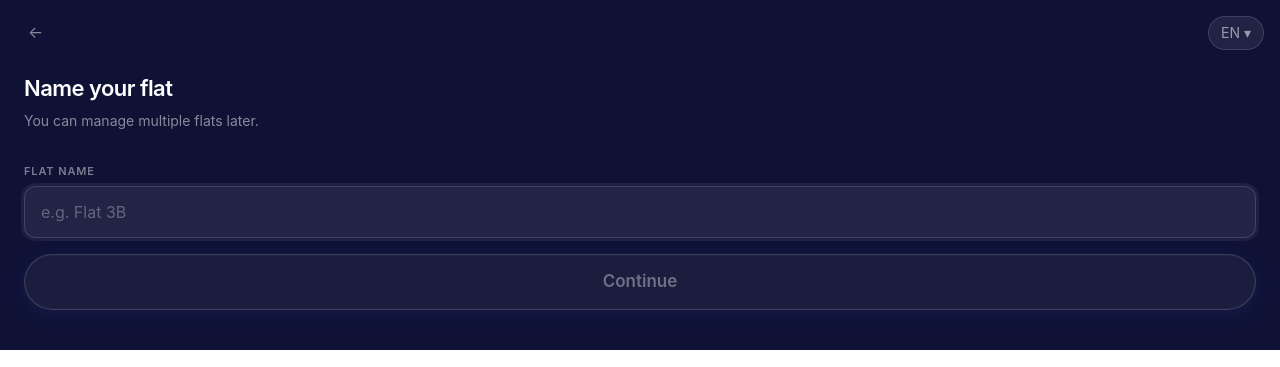
OnboardingFlatName › Continue button is enabled when a non-empty name is typed
Type "My Flat" into the field. click: (640, 212)
box: [24,186,1256,238]
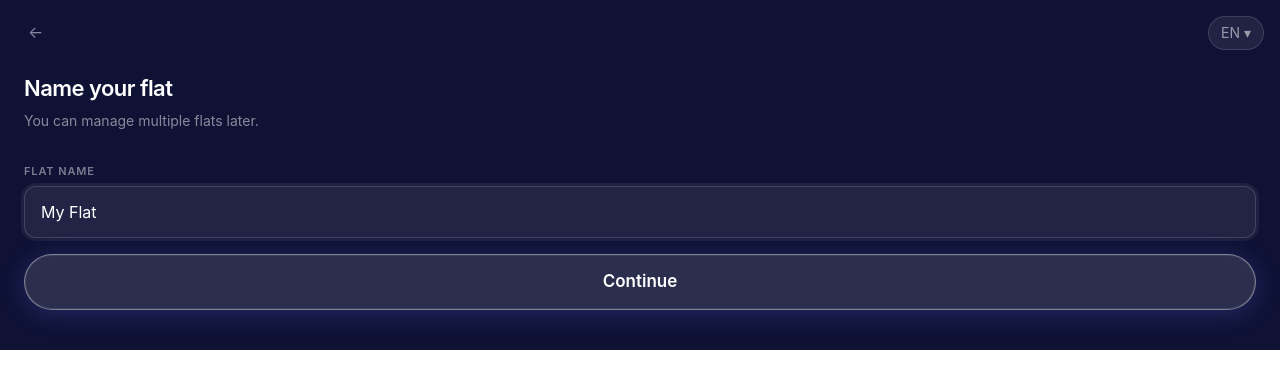
Expected: the button "Continue" is enabled, [24,254,1256,310]
